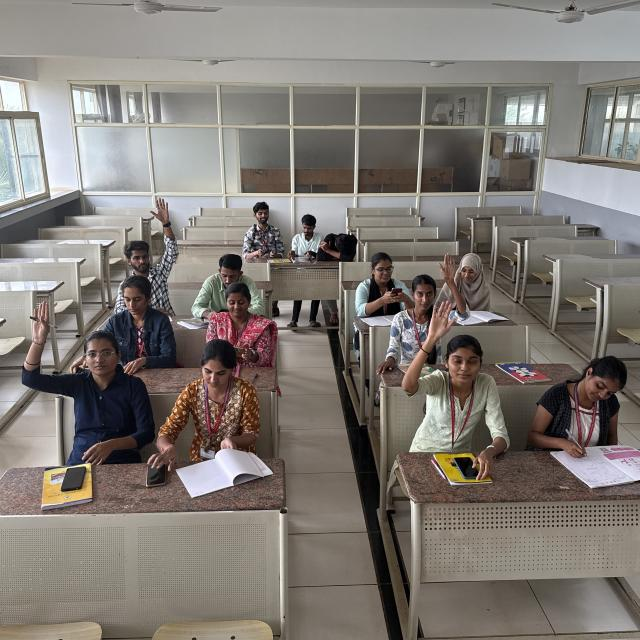Hand Rising: (14, 298, 149, 452), (401, 296, 504, 447), (398, 250, 470, 352), (114, 197, 182, 295)
Reading: (174, 343, 270, 490)
Sleeping: (314, 225, 364, 268)
Using Phone: (355, 249, 410, 317), (243, 200, 287, 266)
Writing: (527, 355, 638, 477)
